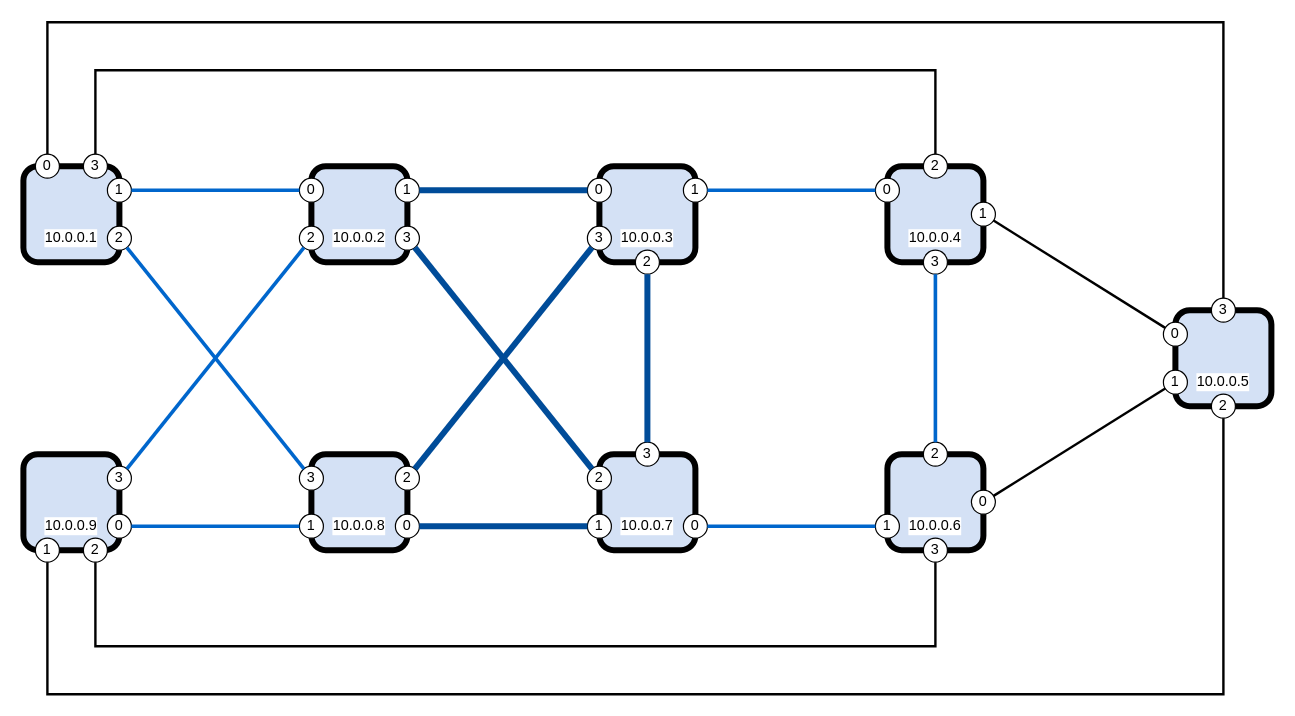
This 1295x716 diagram has some shape labels left out. Each missing label, with the box of its shape:
R1: (20, 163, 122, 265)
R2: (308, 163, 410, 265)
R3: (596, 163, 698, 265)
R4: (884, 163, 986, 265)
R5: (1172, 307, 1274, 409)
R6: (884, 451, 986, 553)
R7: (596, 451, 698, 553)
R8: (308, 451, 410, 553)
R9: (20, 451, 122, 553)
